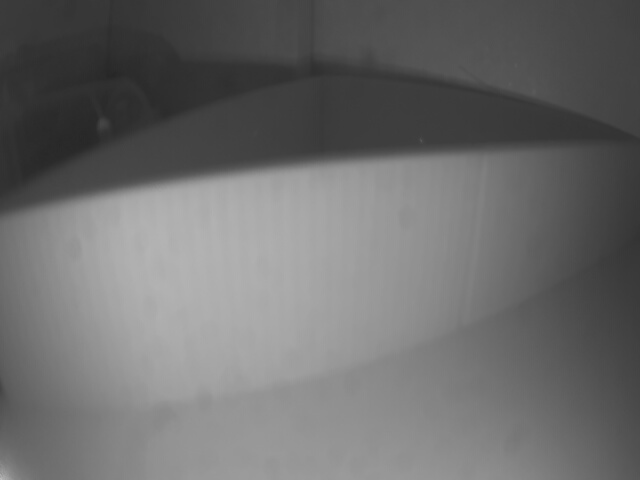Point: (5, 143, 638, 412)
